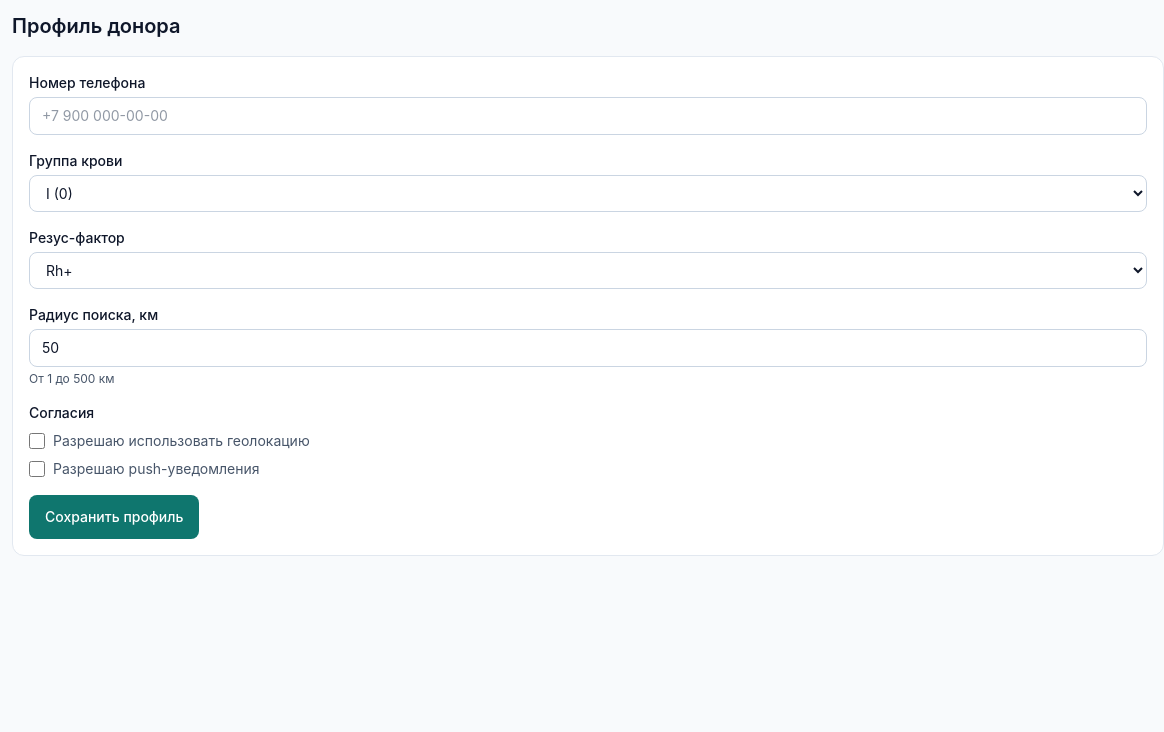
Test: ProfilePage — валидация (матрица ошибок ТЗ) › пустой телефон, радиус 0 и отсутствие согласий дают ошибки
The width and height of the screenshot is (1164, 732).
Replace the text in the number field labelled "Радиус поиска, км" with "0": coordinates (588, 348) [29,329,1147,367]
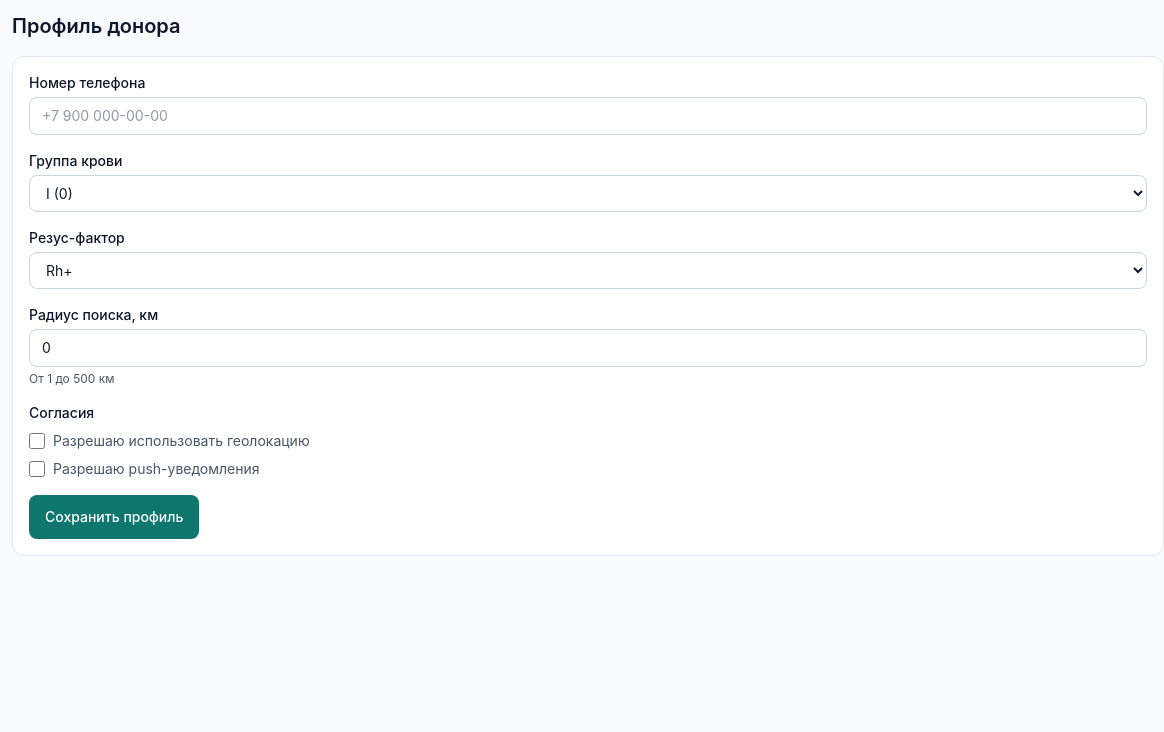
Click the button "Сохранить профиль": coordinates (114, 517) [29,495,200,539]
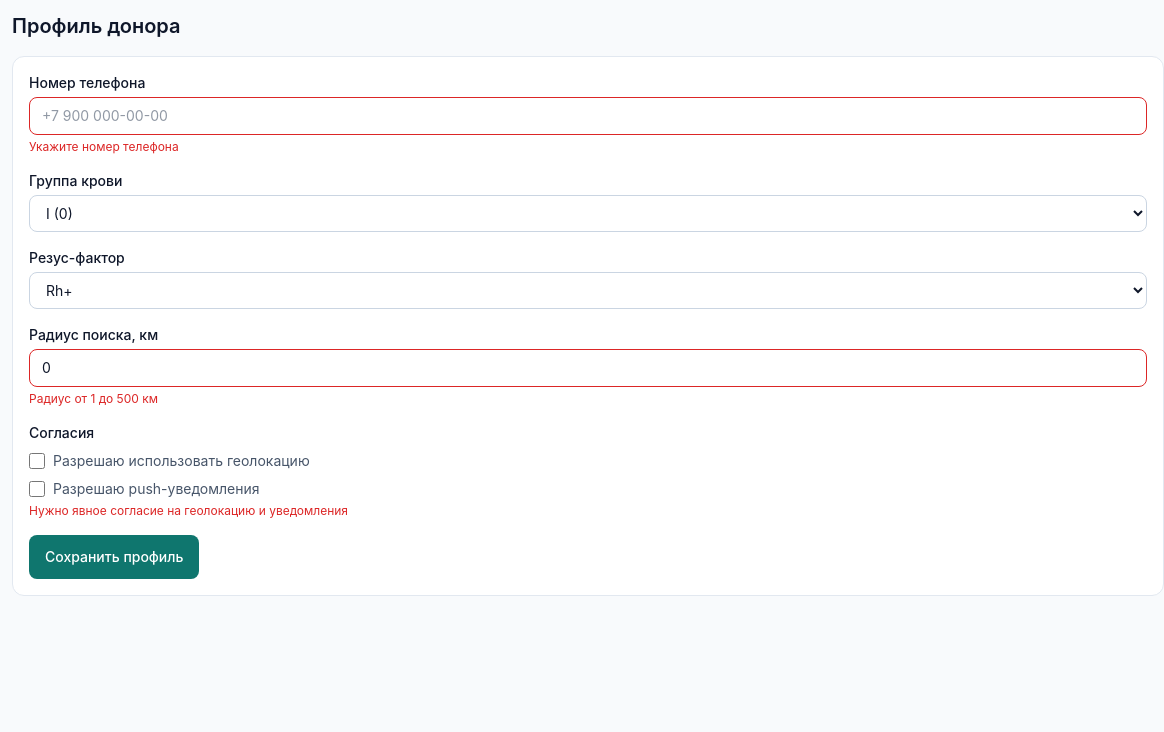
Now the text "Укажите номер телефона" is shown, box [29,139,179,154]
Now the text "Радиус от 1 до 500 км" is shown, box [29,391,158,406]
Now the text "Нужно явное согласие на геолокацию и уведомления" is shown, box [29,503,348,518]
